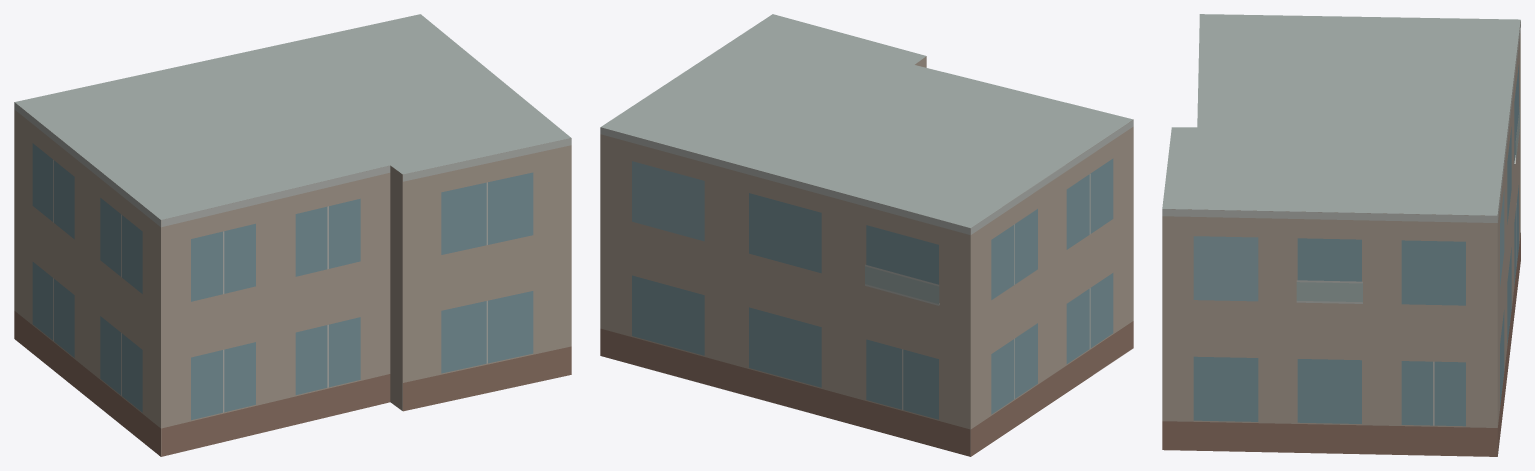
The model's file is survey-upis-32849207.glb.
3 renders of one model, left to right at view 1: azimuth 30°, elevation 25°; view 2: azimuth 150°, elevation 25°; view 3: azimuth 270°, elevation 25°, orthographic. The views are drawn at different scales.
Visible parts, largest first — view 1: survey-upis-32849207.tmp; view 2: survey-upis-32849207.tmp; view 3: survey-upis-32849207.tmp.
Part boxes in pixels (x1=…): survey-upis-32849207.tmp: x1=14, y1=14, x2=571, y2=456; survey-upis-32849207.tmp: x1=600, y1=14, x2=1133, y2=456; survey-upis-32849207.tmp: x1=1162, y1=14, x2=1520, y2=456.
Size of the model in its own units: 14.27 by 7.95 by 10.72.
